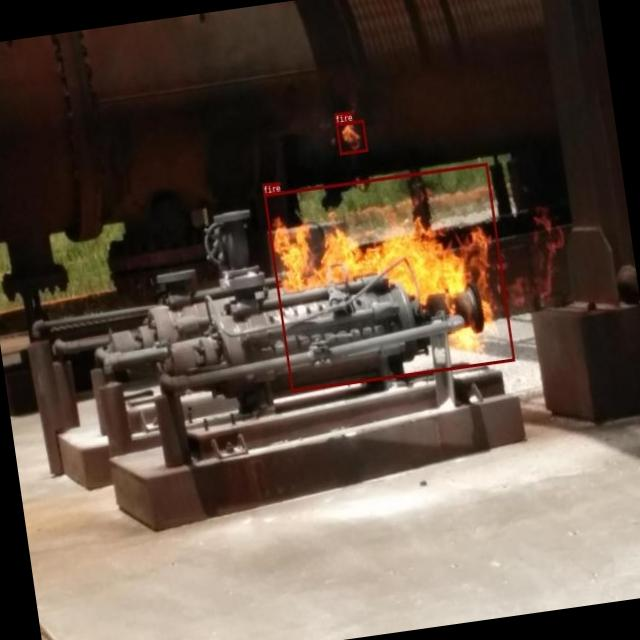fire: (264, 162, 514, 392), (336, 119, 368, 155)
